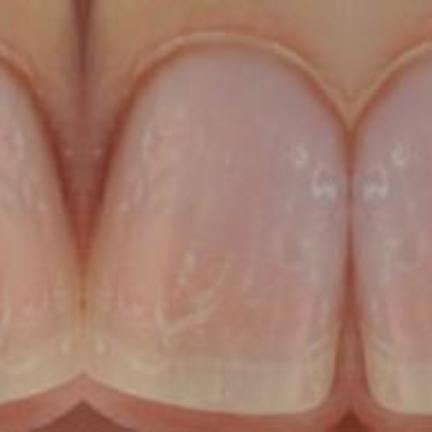Nail: (82, 42, 347, 415), (351, 50, 432, 415), (0, 59, 82, 402)
